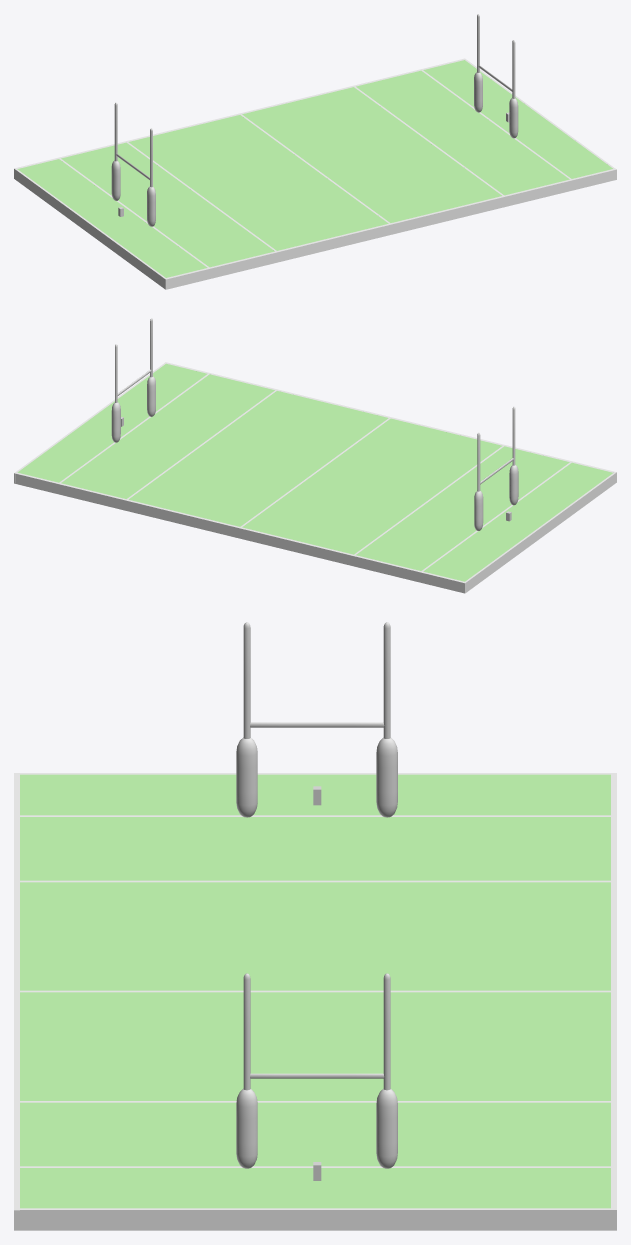
3 renders of one model, top to bottom at view 1: azimuth 30°, elevation 25°; view 2: azimuth 150°, elevation 25°; view 3: azimuth 270°, elevation 25°, orthographic. The views are drawn at different scales.
Visible parts, largest first — view 1: Cube, Cube_8, Cube_10, Cube_7, Cube_5; view 2: Cube, Cube_7, Cube_10, Cube_8, Cube_6, Cube_2_2, Cube_13, Cube_12; view 3: Cube, Cube_4, Cube_8, Cube_7, Cube_13, Cube_2_2, Capsule_7, Capsule_6, Capsule_8, Capsule_9, Cube_9, Cube_3 (+8 smaller).
Boxes of the visible parts, <box> form: Cube: <box>17,60,612,277</box>; Cube_8: <box>165,169,616,289</box>; Cube_10: <box>14,168,167,289</box>; Cube_7: <box>16,69,421,169</box>; Cube_5: <box>573,169,615,190</box>; Cube: <box>17,363,612,581</box>; Cube_7: <box>58,483,464,592</box>; Cube_10: <box>463,472,616,593</box>; Cube_8: <box>165,362,615,472</box>; Cube_6: <box>15,472,58,493</box>; Cube_2_2: <box>238,417,390,538</box>; Cube_13: <box>352,445,505,566</box>; Cube_12: <box>125,389,277,510</box>; Cube: <box>20,774,610,1208</box>; Cube_4: <box>14,1208,616,1230</box>; Cube_8: <box>14,773,19,1230</box>; Cube_7: <box>611,773,616,1167</box>; Cube_13: <box>14,880,616,882</box>; Cube_2_2: <box>14,990,616,992</box>; Capsule_7: <box>376,737,397,817</box>; Capsule_6: <box>236,737,257,817</box>; Capsule_8: <box>376,1089,397,1168</box>; Capsule_9: <box>236,1088,257,1168</box>; Cube_9: <box>14,815,616,816</box>; Cube_3: <box>14,1166,616,1167</box>.
Size of the model in its own units: 12009 by 2740 by 6998.
